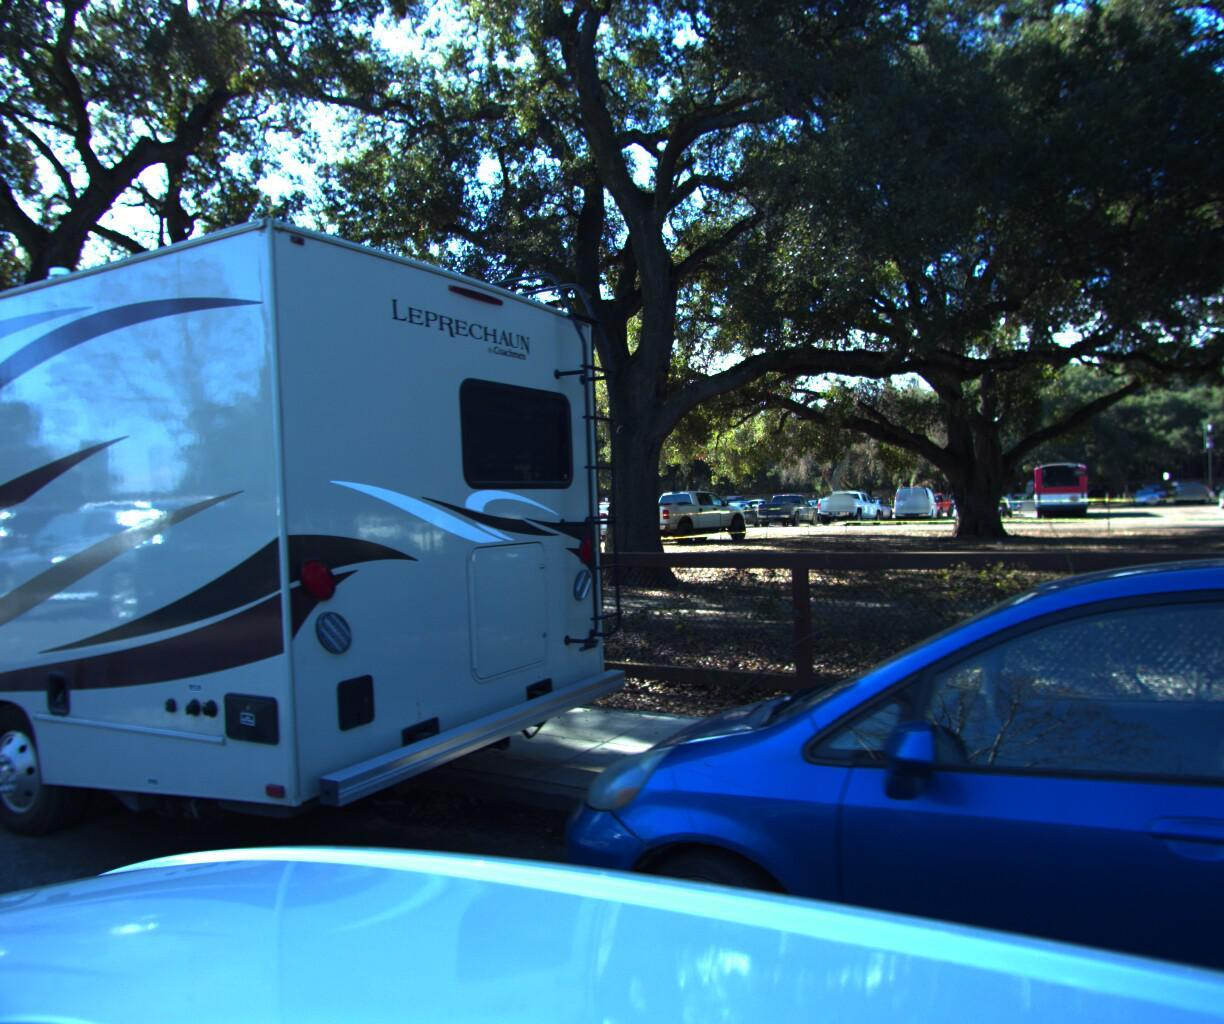car: (425, 528, 1224, 1024)
other_vehicle: (0, 123, 648, 986)
